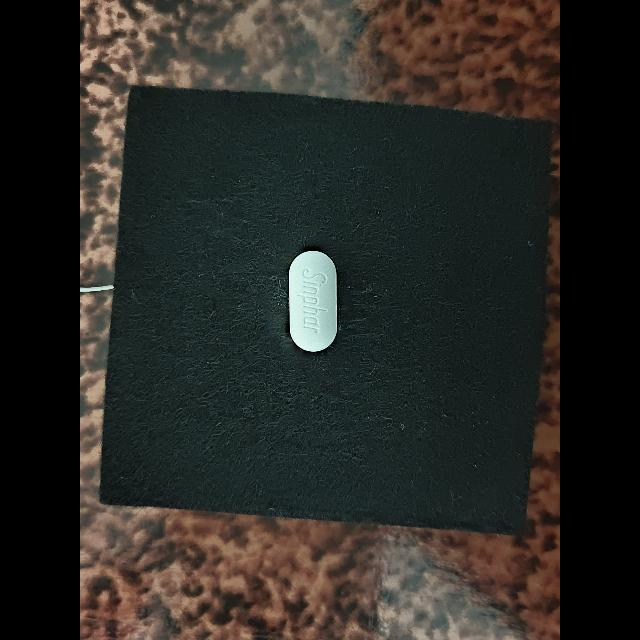Intact Pill: (289, 250, 337, 351)
